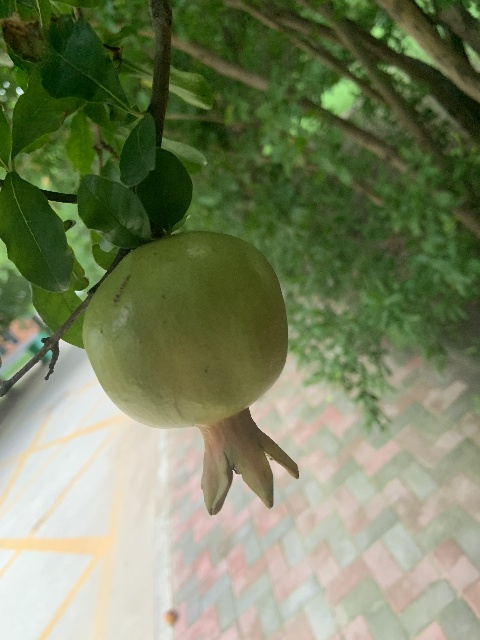mid-growth: (83, 231, 298, 516)
